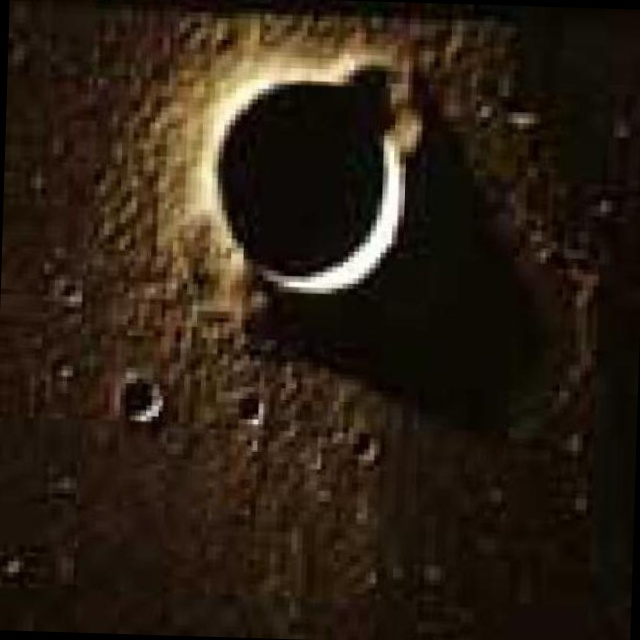crater: (206, 52, 400, 285), (118, 383, 168, 426)
